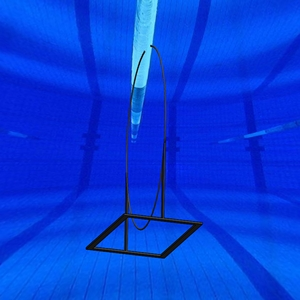circle: (85, 44, 204, 261)
